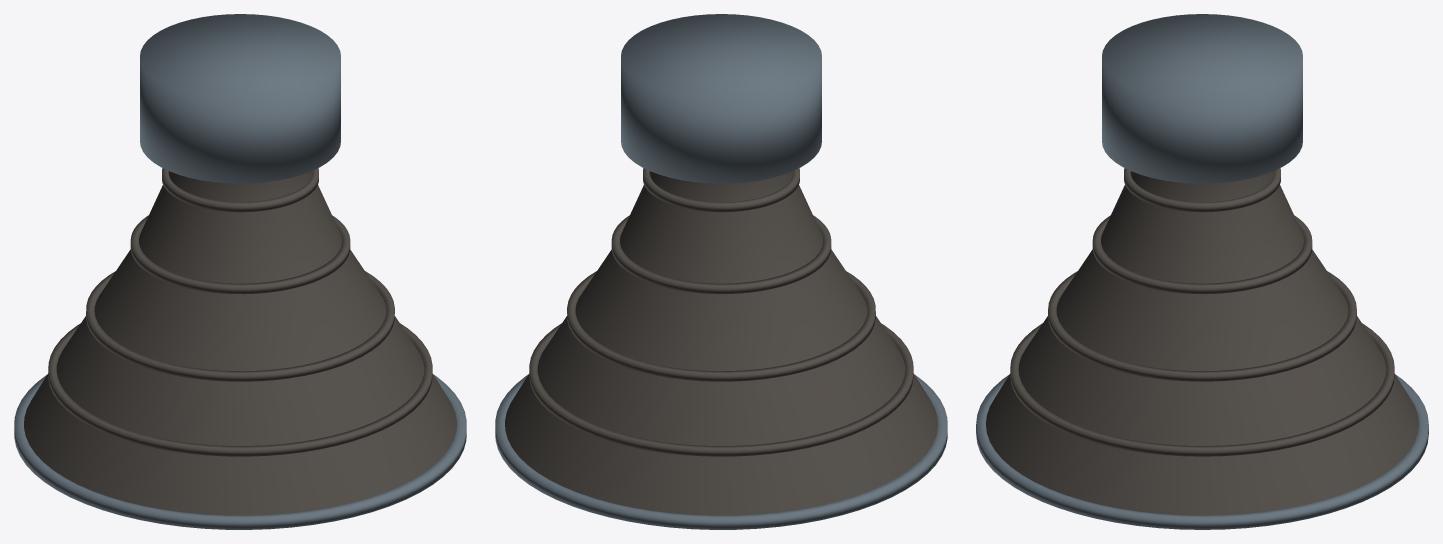
The model's file is apollo_sps.glb.
3 views of the same model, side by side, from view 1: azimuth 30°, elevation 25°; view 2: azimuth 150°, elevation 25°; view 3: azimuth 270°, elevation 25° (orthographic).
Parts seen in each view (by area): view 1: apollo_smspsnozzlemesh.mesh_Heat-darkened_nickel, apollo_smspsmesh, apollo_smspsnozzlemesh.mesh_Machined_steel; view 2: apollo_smspsnozzlemesh.mesh_Heat-darkened_nickel, apollo_smspsmesh, apollo_smspsnozzlemesh.mesh_Machined_steel; view 3: apollo_smspsnozzlemesh.mesh_Heat-darkened_nickel, apollo_smspsmesh, apollo_smspsnozzlemesh.mesh_Machined_steel.
Part boxes in pixels (<box>): apollo_smspsnozzlemesh.mesh_Heat-darkened_nickel: <box>24,168,456,515</box>; apollo_smspsmesh: <box>140,14,340,183</box>; apollo_smspsnozzlemesh.mesh_Machined_steel: <box>14,374,466,529</box>; apollo_smspsnozzlemesh.mesh_Heat-darkened_nickel: <box>505,168,937,515</box>; apollo_smspsmesh: <box>621,14,821,183</box>; apollo_smspsnozzlemesh.mesh_Machined_steel: <box>495,374,947,529</box>; apollo_smspsnozzlemesh.mesh_Heat-darkened_nickel: <box>986,168,1418,515</box>; apollo_smspsmesh: <box>1102,14,1302,183</box>; apollo_smspsnozzlemesh.mesh_Machined_steel: <box>976,374,1428,529</box>.
Bounding box in the file's own units: 2.52 × 2.32 × 2.52.
